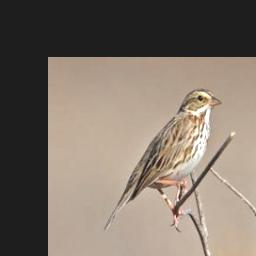Sparrow: (102, 88, 221, 233)
